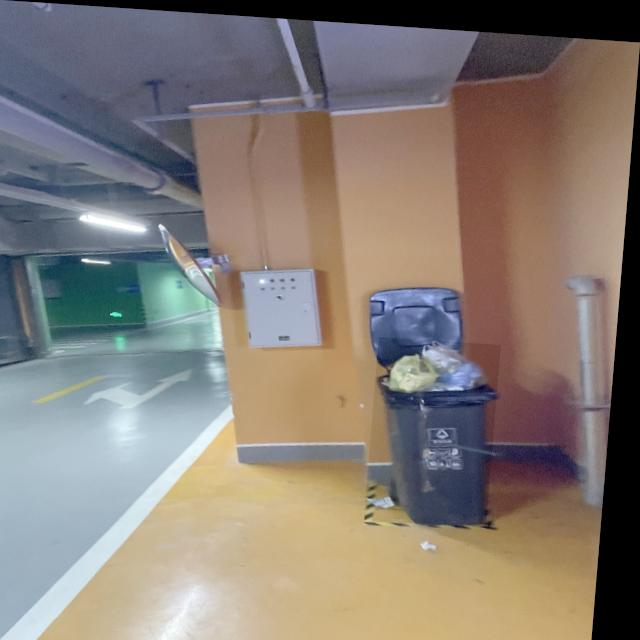overflow: (372, 331, 506, 521)
